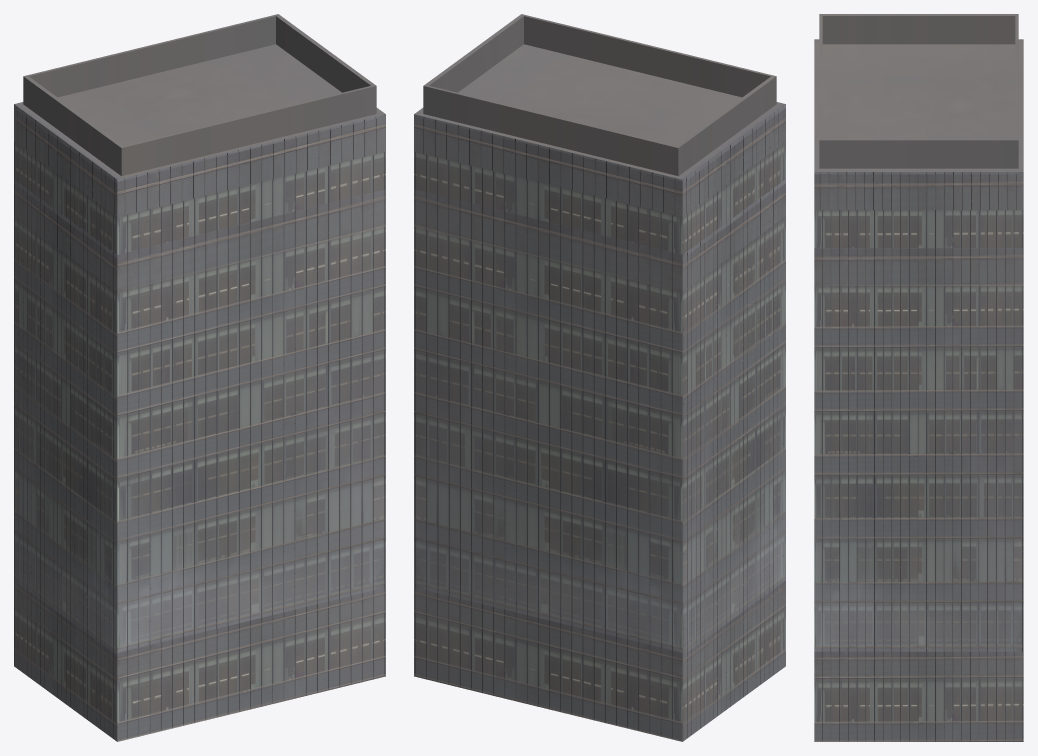
Rendered from HighRise03.fbx.
3 renders of one model, left to right at view 1: azimuth 30°, elevation 25°; view 2: azimuth 150°, elevation 25°; view 3: azimuth 270°, elevation 25°, orthographic.
Visible parts, largest first — view 1: HighRise03; view 2: HighRise03; view 3: HighRise03.
Part boxes in pixels (left/top/right/bottom): HighRise03: left=14, top=14, right=385, bottom=741; HighRise03: left=414, top=14, right=785, bottom=741; HighRise03: left=814, top=14, right=1023, bottom=741.
Size of the model in its own units: 300 by 630 by 200.
